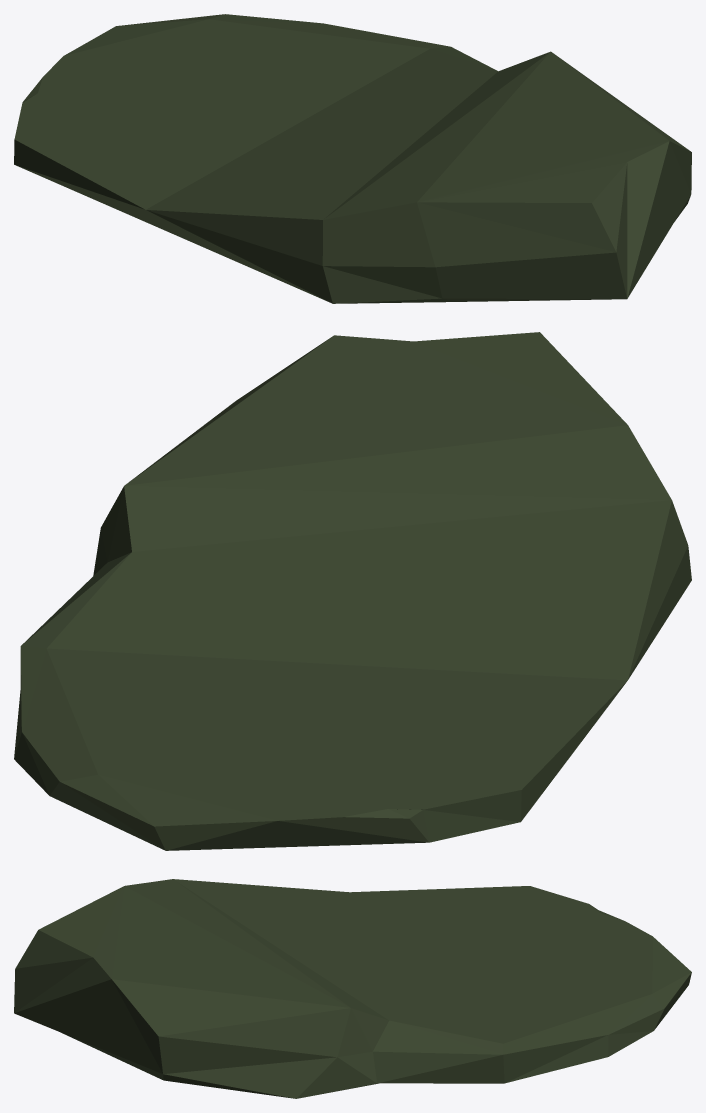
Rendered from EA_Swamp_Mud_01b.glb.
3 views of the same model, one above another, from view 1: azimuth 30°, elevation 25°; view 2: azimuth 150°, elevation 25°; view 3: azimuth 270°, elevation 25° (orthographic). The views are drawn at different scales.
Parts seen in each view (by area): view 1: EA_Swamp_Mud_01b; view 2: EA_Swamp_Mud_01b; view 3: EA_Swamp_Mud_01b.
Part boxes in pixels (x1,y1,x2,y2): EA_Swamp_Mud_01b: (14,14,691,303); EA_Swamp_Mud_01b: (14,332,691,850); EA_Swamp_Mud_01b: (14,879,691,1098).
Size of the model in its own units: 8.77 by 2.05 by 12.91.
Materials: 1 (1 with a texture image).
